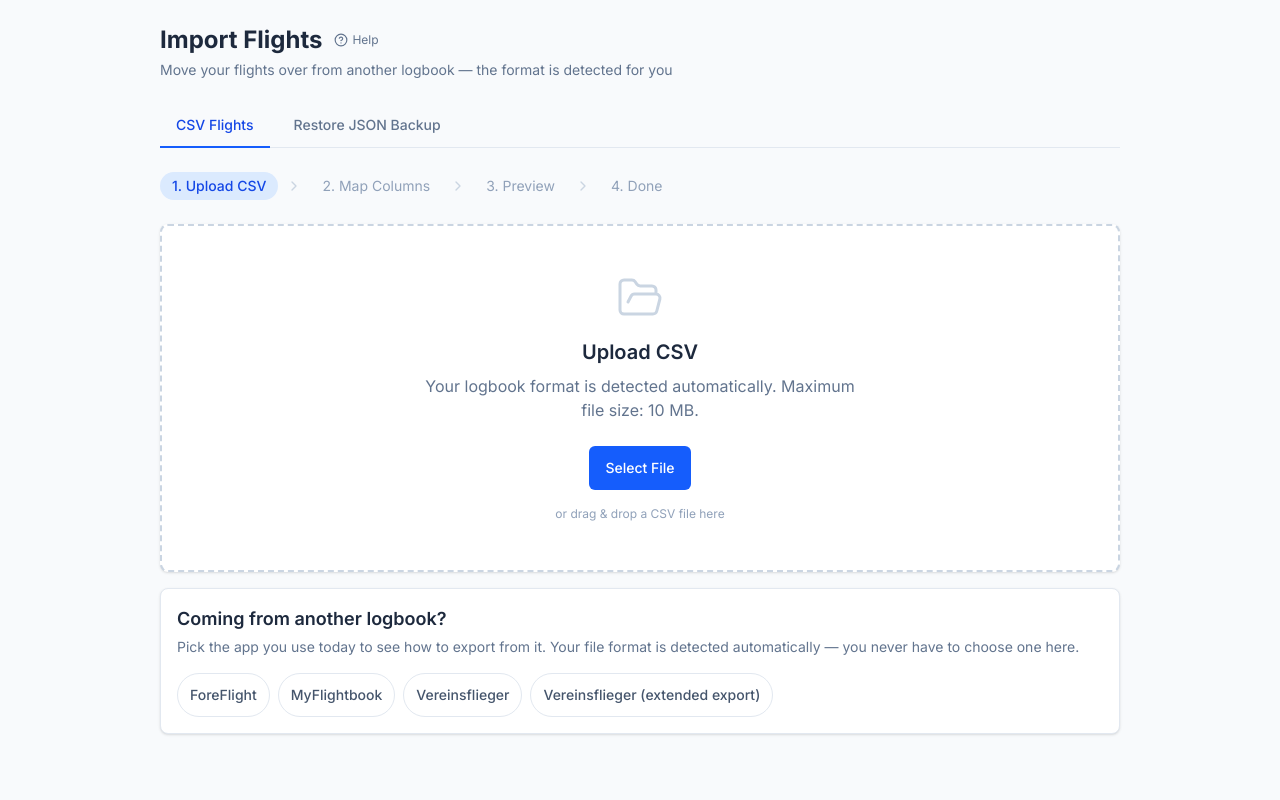
Test: ImportPage › does not show the best-effort caveat for an exact template
Click the button "ForeFlight".
click(223, 695)  # box [177,673,270,717]
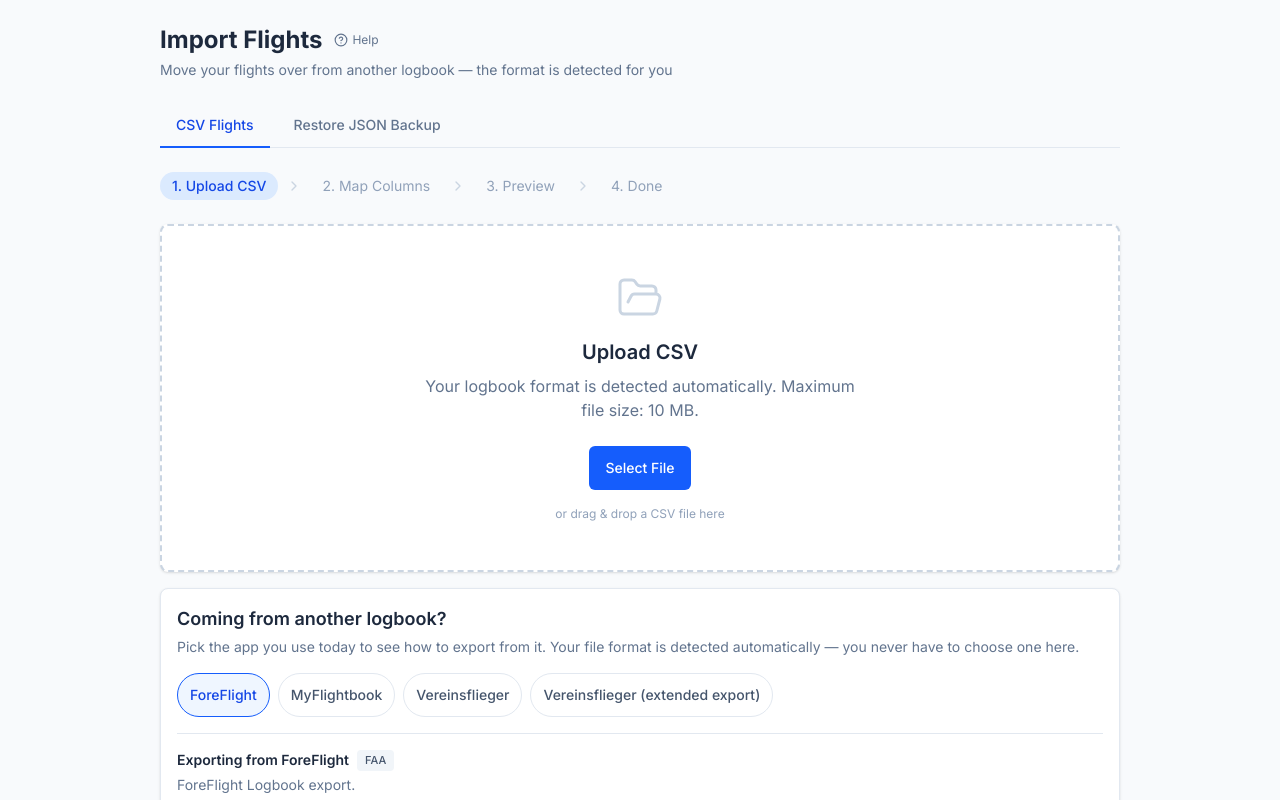
Check: the heading "Exporting from ForeFlight" is shown, box [177,750,349,770]
